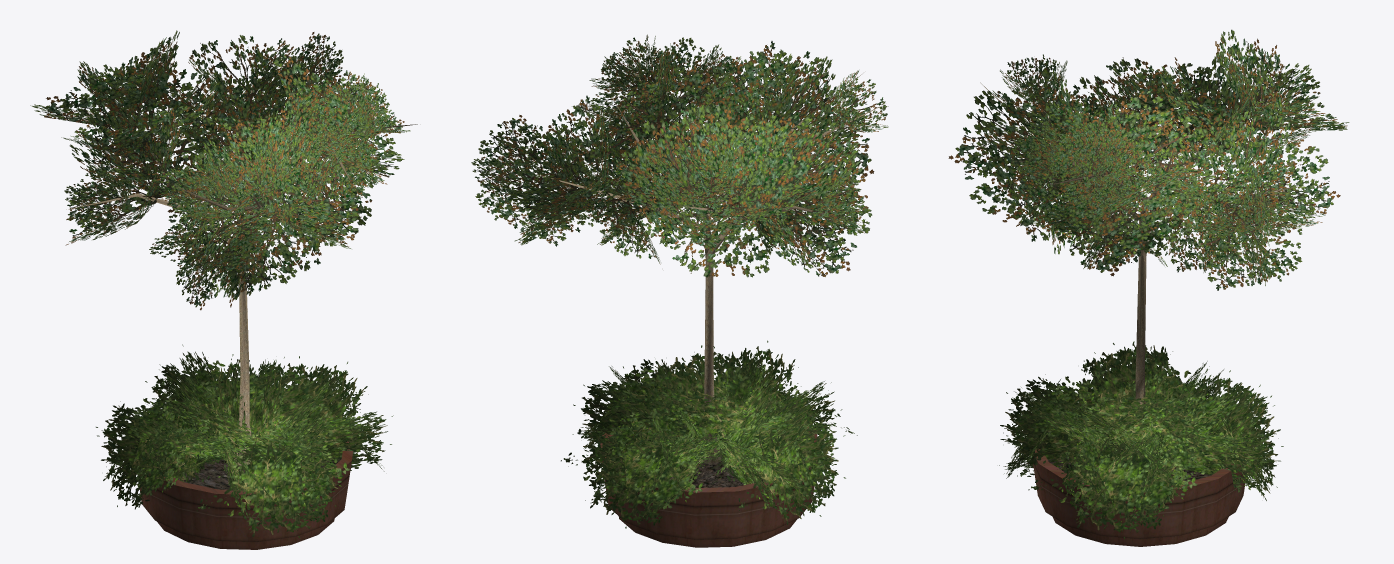
The model's file is mun_all_imprv_planter_s01_l0.fbx.
3 views of the same model, side by side, from view 1: azimuth 30°, elevation 25°; view 2: azimuth 150°, elevation 25°; view 3: azimuth 270°, elevation 25° (orthographic).
Parts seen in each view (by area): view 1: mesh_node; view 2: mesh_node; view 3: mesh_node.
Boxes of the visible parts, left/top/right/bottom form: mesh_node: left=30, top=30, right=417, bottom=549; mesh_node: left=471, top=34, right=888, bottom=547; mesh_node: left=948, top=29, right=1349, bottom=546.
Size of the model in its own units: 6.09 by 7.45 by 6.54.
